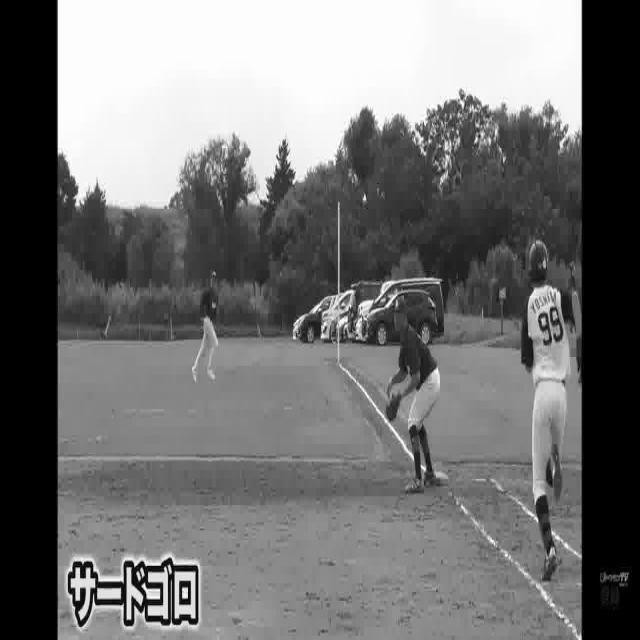base: (422, 474, 450, 493)
baseball_glove: (385, 388, 404, 421)
shoe: (549, 439, 567, 504), (540, 543, 560, 584), (404, 472, 429, 491), (422, 471, 438, 488)
